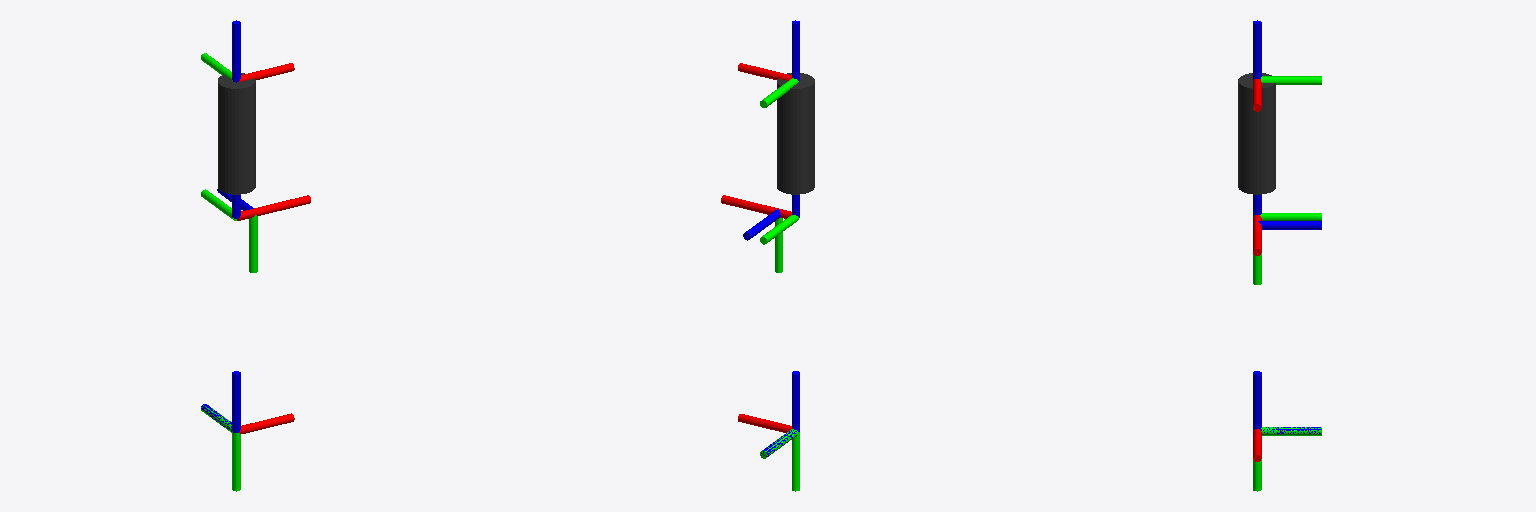
URDF robot description (wam_4dof):
<?xml version="1.0" ?>

<robot name="wam_4dof">

    <material name="red">
        <color rgba="1 0 0 1"/>
    </material>

    <material name="green">
        <color rgba="0 1 0 1"/>
    </material>

    <material name="blue">
        <color rgba="0 0 1 1"/>
    </material>

    <material name="dark">
        <color rgba=".25 .25 .25 1"/>
    </material>

    <material name="lightest_grey">
        <color rgba="0.85 0.85 0.85 1"/>
    </material>

    <material name="light_grey">
        <color rgba="0.78 0.75 0.7 1"/>
    </material>

    <material name="dark_grey">
        <color rgba="0.6 0.6 0.6 1"/>
    </material>

    <link name="links/world"/>

    <link name="links/base">
        <inertial>
            <mass value="9.97059584"/>
            <origin xyz="0.1998 -0.1260 0.2053" rpy="1.5605 0.0894 0.6977"/>
            <inertia ixx="0.08709498" ixy="0." ixz="0." iyy="0.13911978" iyz="0." izz="0.18350061"/>
        </inertial>
        <visual>
            <origin xyz="0.22 0.14 0." rpy="0 0 0"/>
            <geometry name="wam_base_visual">
                <mesh filename="base_link_fine.stl"/>
            </geometry>
            <material name="light_grey"/>
        </visual>
        <collision>
            <origin xyz="0.22 0.14 0." rpy="0 0 0"/>
            <geometry name="wam_base_collision">
                <mesh filename="base_link_convex.stl"/>
            </geometry>
        </collision>
    </link>

    <link name="frames/0">
        <visual>
            <origin xyz="0.075 0 0" rpy="0 1.570796327 0"/>
            <geometry name="x_axis">
                <cylinder length="0.15" radius="0.01"/>
            </geometry>
            <material name="red"/>
        </visual>
        <visual>
            <origin xyz="0 0.075 0" rpy="1.570796327 0 0"/>
            <geometry name="y_axis">
                <cylinder length="0.15" radius="0.01" />
            </geometry>
            <material name="green"/>
        </visual>
        <visual>
            <origin xyz="0 0 0.075" rpy="0 0 0"/>
            <geometry name="z_axis">
                <cylinder length="0.15" radius="0.01"/>
            </geometry>
            <material name="blue"/>
        </visual>
    </link>

    <link name="links/shoulder_yaw">
        <inertial>
            <mass value="10.76768767"/>
            <origin xyz="-0.0044 -0.0007 -0.1219" rpy="1.6016 0.0973 1.5751"/>
            <inertia ixx="0.09044192" ixy="0." ixz="0." iyy="0.11309685" iyz="0." izz="0.13508855"/>
        </inertial>
        <visual>
            <origin rpy="0 0 0" xyz="0 0 0"/>
            <geometry name="link_shoulder_yaw_visual">
                <mesh filename="shoulder_link_fine.stl"/>
            </geometry>
            <material name="light_grey"/>
        </visual>
        <collision>
            <origin rpy="0 0 0" xyz="0 0 0"/>
            <geometry name="link_shoulder_yaw_collision1">
                <mesh filename="shoulder_link_convex_decomposition_p1.stl"/>
            </geometry>
        </collision>
        <collision>
            <origin rpy="0 0 0" xyz="0 0 0"/>
            <geometry name="link_shoulder_yaw_collision2">
                <mesh filename="shoulder_link_convex_decomposition_p2.stl"/>
            </geometry>
        </collision>
        <collision>
            <origin rpy="0 0 0" xyz="0 0 0"/>
            <geometry name="link_shoulder_yaw_collision3">
                <mesh filename="shoulder_link_convex_decomposition_p3.stl"/>
            </geometry>
        </collision>
    </link>

    <link name="frames/1">
        <visual>
            <origin xyz="0.075 0 0" rpy="0 1.570796327 0"/>
            <geometry name="x_axis">
                <cylinder length="0.15" radius="0.01"/>
            </geometry>
            <material name="red"/>
        </visual>
        <visual>
            <origin xyz="0 0.075 0" rpy="1.570796327 0 0"/>
            <geometry name="y_axis">
                <cylinder length="0.15" radius="0.01" />
            </geometry>
            <material name="green"/>
        </visual>
        <visual>
            <origin xyz="0 0 0.075" rpy="0 0 0"/>
            <geometry name="z_axis">
                <cylinder length="0.15" radius="0.01"/>
            </geometry>
            <material name="blue"/>
        </visual>
    </link>

    <link name="links/shoulder_pitch">
        <inertial>
            <mass value="3.87493756"/>
            <origin xyz="-0.0024 -0.0154 0.0311" rpy="0.5527 -0.0348 -1.5459"/>
            <inertia ixx="0.01264653" ixy="0." ixz="0." iyy="0.01671014" iyz="0." izz="0.02142072"/>
        </inertial>
        <visual>
            <origin rpy="0 0 0" xyz="0 0 0"/>
            <geometry name="link_shoulder_pitch_visual">
                <mesh filename="shoulder_pitch_link_fine.stl"/>
            </geometry>
            <material name="dark_grey"/>
        </visual>
        <collision>
            <origin rpy="0 0 0" xyz="0 0 0"/>
            <geometry name="link_shoulder_pitch_collision">
                <mesh filename="shoulder_pitch_link_convex.stl"/>
            </geometry>
        </collision>
    </link>

    <link name="frames/2">
        <visual>
            <origin xyz="0.075 0 0" rpy="0 1.570796327 0"/>
            <geometry name="x_axis">
                <cylinder length="0.15" radius="0.01"/>
            </geometry>
            <material name="red"/>
        </visual>
        <visual>
            <origin xyz="0 0.075 0" rpy="1.570796327 0 0"/>
            <geometry name="y_axis">
                <cylinder length="0.15" radius="0.01" />
            </geometry>
            <material name="green"/>
        </visual>
        <visual>
            <origin xyz="0 0 0.075" rpy="0 0 0"/>
            <geometry name="z_axis">
                <cylinder length="0.15" radius="0.01"/>
            </geometry>
            <material name="blue"/>
        </visual>
    </link>

    <link name="links/upper_arm">
        <inertial>
            <mass value="1.80228141"/>
            <origin xyz="0.0067 0.0000 0.3425" rpy="0.3219 -1.4307 -1.8954"/>
            <inertia ixx="0.00313419" ixy="0." ixz="0." iyy="0.05922120" iyz="0." izz="0.05927132"/>
        </inertial>
        <visual>
            <origin rpy="0 0 0" xyz="0 0 0"/>
            <geometry name="link_upper_arm_visual">
                <mesh filename="upper_arm_link_fine.stl"/>
            </geometry>
            <material name="dark"/>
        </visual>
        <collision>
            <origin rpy="0 0 0" xyz="0 0 0"/>
            <geometry name="link_upper_arm_collision1">
                <mesh filename="upper_arm_link_convex_decomposition_p1.stl"/>
            </geometry>
        </collision>
        <collision>
            <origin rpy="0 0 0" xyz="0 0 0"/>
            <geometry name="link_upper_arm_collision1">
                <mesh filename="upper_arm_link_convex_decomposition_p2.stl"/>
            </geometry>
        </collision>
    </link>

    <link name="frames/3">
        <visual>
            <origin xyz="0.075 0 0" rpy="0 1.570796327 0"/>
            <geometry name="x_axis">
                <cylinder length="0.15" radius="0.01"/>
            </geometry>
            <material name="red"/>
        </visual>
        <visual>
            <origin xyz="0 0.075 0" rpy="1.570796327 0 0"/>
            <geometry name="y_axis">
                <cylinder length="0.15" radius="0.01" />
            </geometry>
            <material name="green"/>
        </visual>
        <visual>
            <origin xyz="0 0 0.075" rpy="0 0 0"/>
            <geometry name="z_axis">
                <cylinder length="0.15" radius="0.01"/>
            </geometry>
            <material name="blue"/>
        </visual>
    </link>

    <link name="links/forearm">
        <inertial>
            <mass value="1.06513649"/>
            <origin xyz="-0.0340 -0.1405 -0.0000" rpy="0.1006 -1.4741 3.0417"/>
            <inertia ixx="0.00181989" ixy="0." ixz="0." iyy="0.01864102" iyz="0." izz="0.01891661"/>
        </inertial>
        <visual>
            <origin rpy="0 0 0" xyz="0 0 0"/>
            <geometry name="link_forearm_visual1">
                <mesh filename="elbow_link_fine.stl"/>
            </geometry>
            <material name="lightest_grey"/>
        </visual>
        <visual>
            <origin rpy="1.570796 0 0" xyz="-0.045 -0.214 0"/>
            <geometry name="link_forearm_visual2">
                <cylinder radius=".0445" length="0.272"/>
            </geometry>
            <material name="dark"/>
        </visual>
        <collision>
            <origin rpy="0 0 0" xyz="0 0 0"/>
            <geometry name="link_forearm_collision1">
                <mesh filename="elbow_link_convex.stl"/>
            </geometry>
        </collision>
        <collision>
            <origin rpy="1.570796 0 0" xyz="-0.045 -0.214 0"/>
            <geometry name="link_forearm_collision2">
                <cylinder radius=".0445" length="0.272"/>
            </geometry>
        </collision>
    </link>

    <link name="frames/4">
        <visual>
            <origin xyz="0.075 0 0" rpy="0 1.570796327 0"/>
            <geometry name="x_axis">
                <cylinder length="0.15" radius="0.01"/>
            </geometry>
            <material name="red"/>
        </visual>
        <visual>
            <origin xyz="0 0.075 0" rpy="1.570796327 0 0"/>
            <geometry name="y_axis">
                <cylinder length="0.15" radius="0.01" />
            </geometry>
            <material name="green"/>
        </visual>
        <visual>
            <origin xyz="0 0 0.075" rpy="0 0 0"/>
            <geometry name="z_axis">
                <cylinder length="0.15" radius="0.01"/>
            </geometry>
            <material name="blue"/>
        </visual>
    </link>

    <link name="frames/5">
        <inertial>
            <mass value="0.15"/>
            <origin xyz="0 0 0"/>
            <inertia ixx="0.0000001" ixy="0." ixz="0." iyy="0.0000001" iyz="0." izz="0.0000001"/>
        </inertial>
        <visual>
            <origin xyz="0.075 0 0" rpy="0 1.570796327 0"/>
            <geometry name="x_axis">
                <cylinder length="0.15" radius="0.01"/>
            </geometry>
            <material name="red"/>
        </visual>
        <visual>
            <origin xyz="0 0.075 0" rpy="1.570796327 0 0"/>
            <geometry name="y_axis">
                <cylinder length="0.15" radius="0.01" />
            </geometry>
            <material name="green"/>
        </visual>
        <visual>
            <origin xyz="0 0 0.075" rpy="0 0 0"/>
            <geometry name="z_axis">
                <cylinder length="0.15" radius="0.01"/>
            </geometry>
            <material name="blue"/>
        </visual>
    </link>

    <joint name="transformations/base" type="fixed">
        <parent link="links/world"/>
        <child link="links/base"/>
        <origin xyz="0 0 1.2" rpy="0 0 0"/>
    </joint>

    <joint name="transformations/frames/0" type="fixed">
        <origin xyz="0.22 0.14 0.346" rpy="0 0 0"/>
        <parent link="links/base"/>
        <child link="frames/0"/>
    </joint>

    <joint name="joints/shoulder_yaw" type="revolute">
        <origin xyz="0.22 0.14 0.346" rpy="0 0 0"/>
        <parent link="links/base"/>
        <child link="links/shoulder_yaw"/>
        <axis xyz="0 0 1"/>
        <dynamics damping="1.31174" friction="1.70477"/>
        <limit effort="1500" lower="-2.6" upper="2.6" velocity="200"/>
    </joint>

    <joint name="transformations/frames/1" type="fixed">
        <origin xyz="0. 0. 0." rpy="-1.570796 0 0"/>
        <parent link="links/shoulder_yaw"/>
        <child link="frames/1"/>
    </joint>

    <joint name="joints/shoulder_pitch" type="revolute">
        <origin xyz="0 0 0" rpy="-1.570796 0 0"/>
        <parent link="links/shoulder_yaw"/>
        <child link="links/shoulder_pitch"/>
        <axis xyz="0 0 1"/>
        <dynamics damping="0.492821" friction="1.43072"/>
        <limit effort="1250" lower="-2.0" upper="2.0" velocity="200"/>
    </joint>

    <joint name="transformations/frames/2" type="fixed">
        <origin xyz="0. 0. 0." rpy="1.570796 0 0"/>
        <parent link="links/shoulder_pitch"/>
        <child link="frames/2"/>
    </joint>

    <joint name="joints/shoulder_roll" type="revolute">
        <origin xyz="0 0 0" rpy="1.570796 0 0"/>
        <parent link="links/shoulder_pitch"/>
        <child link="links/upper_arm"/>
        <axis xyz="0 0 1"/>
        <dynamics damping="1.48827" friction="0.685072"/>
        <limit effort="400" lower="-2.8" upper="2.8" velocity="200"/>
    </joint>

    <joint name="transformations/frames/3" type="fixed">
        <origin rpy="-1.570796 0. 0." xyz="0.045 0 0.55"/>
        <parent link="links/upper_arm"/>
        <child link="frames/3"/>
    </joint>

    <joint name="joints/elbow" type="revolute">
        <origin rpy="-1.570796 0 0" xyz="0.045 0 0.55"/>
        <parent link="links/upper_arm"/>
        <child link="links/forearm"/>
        <axis xyz="0 0 1"/>
        <dynamics damping="0.150353" friction="0.854358"/>
        <limit effort="600" lower="-0.9" upper="3.14159" velocity="200"/>
    </joint>

    <joint name="transformations/frames/4" type="fixed">
        <origin rpy="1.570796 0. 0." xyz="-0.045 0 0"/>
        <parent link="links/forearm"/>
        <child link="frames/4"/>
    </joint>

    <joint name="transformations/frames/5" type="fixed">
        <origin rpy="1.570796 0. 0." xyz="-0.045 -0.35 0"/>
        <parent link="links/forearm"/>
        <child link="frames/5"/>
    </joint>

</robot>

--- What the picture shows (computed from the rendered views, not written in the file) ---
Views: 3 orthographic renders of the robot side by side, from view 1: azimuth 30°, elevation 25°; view 2: azimuth 150°, elevation 25°; view 3: azimuth 270°, elevation 25°.
Model wam_4dof with 12 links and 11 joints (4 revolute, 7 fixed), rooted at links/world, posed every joint at zero.
Links seen in each view (by area): view 1: links/forearm, frames/5, frames/0, frames/3, frames/4, frames/1; view 2: links/forearm, frames/5, frames/0, frames/3, frames/4, frames/1; view 3: links/forearm, frames/5, frames/0, frames/3, frames/4.
Link boxes in pixels (x1,y1,x2,y2): links/forearm: [218, 73, 255, 194]; frames/5: [201, 20, 294, 82]; frames/0: [201, 371, 294, 433]; frames/3: [217, 189, 310, 272]; frames/4: [201, 189, 294, 220]; frames/1: [201, 404, 288, 491]; links/forearm: [777, 73, 814, 194]; frames/5: [738, 20, 799, 107]; frames/0: [738, 371, 799, 458]; frames/3: [721, 195, 782, 272]; frames/4: [738, 195, 799, 244]; frames/1: [761, 429, 799, 491]; links/forearm: [1238, 73, 1275, 194]; frames/5: [1253, 20, 1321, 111]; frames/0: [1253, 371, 1321, 461]; frames/3: [1253, 221, 1321, 284]; frames/4: [1253, 195, 1321, 242].
Size in the robot's own frame: 0.2395 by 0.1945 by 1.2 metres.
Meshes: 5 distinct files referenced, 0 mesh visuals loaded (none loaded); not drawn: 5 (reference not matched to a file when rendering).
